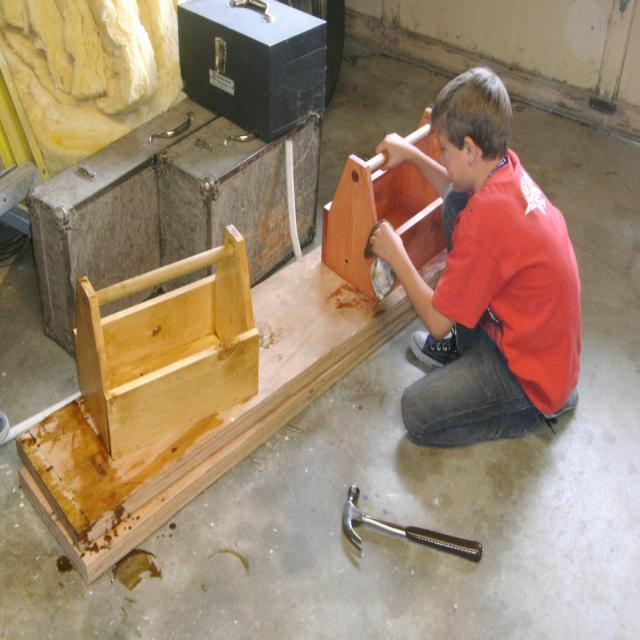hammer: (338, 484, 488, 574)
